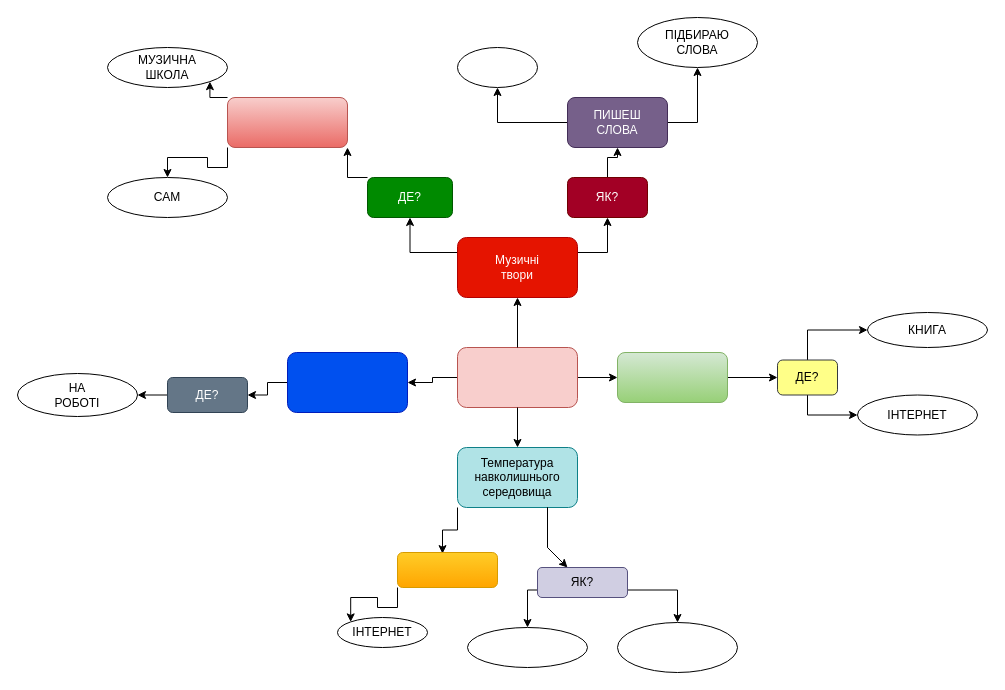
Some shapes in this 1005 by 690 pixel diagram are drawn without their labels. The centre of each missing label's shape, as x and y in pixels:
"БЕЗПЕКА ПРАЦІ" belongs at point (347, 382).
"ВИГАДУЮ" belongs at point (497, 67).
"ВЧИВ" belongs at point (287, 122).
"ЗВІДКИ?" belongs at point (447, 570).
"ОТРИМАННЯ ДАНИХ" belongs at point (672, 377).
"ПОТРЕБИ" belongs at point (517, 377).
"ПРИСТРОЇ" belongs at point (527, 647).
"РАХУВАННЯ" belongs at point (677, 647).
